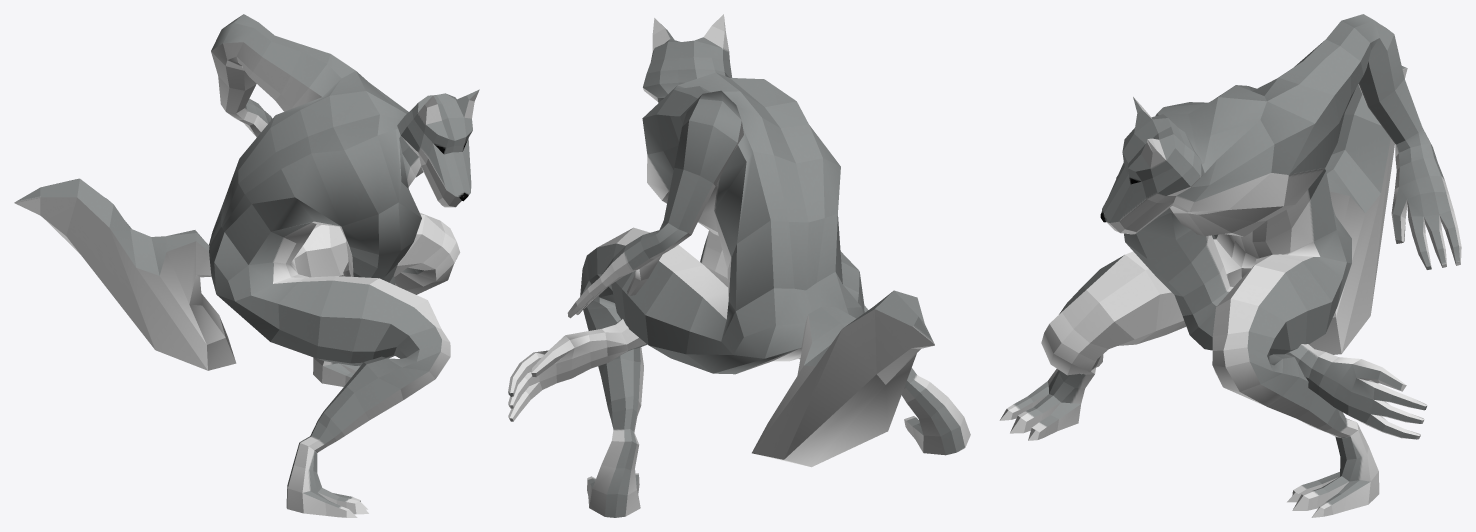
Rendered from WolfAttack(45).obj.
3 views of the same model, side by side, from view 1: azimuth 30°, elevation 25°; view 2: azimuth 150°, elevation 25°; view 3: azimuth 270°, elevation 25° (orthographic). The views are drawn at different scales.
Parts seen in each view (by area): view 1: Box001; view 2: Box001; view 3: Box001.
Part boxes in pixels (x1,y1,x2,y2): Box001: (14,14,479,517); Box001: (508,14,970,517); Box001: (999,14,1461,517).
Bounding box in the file's own units: 99.26 × 97.86 × 93.61.
